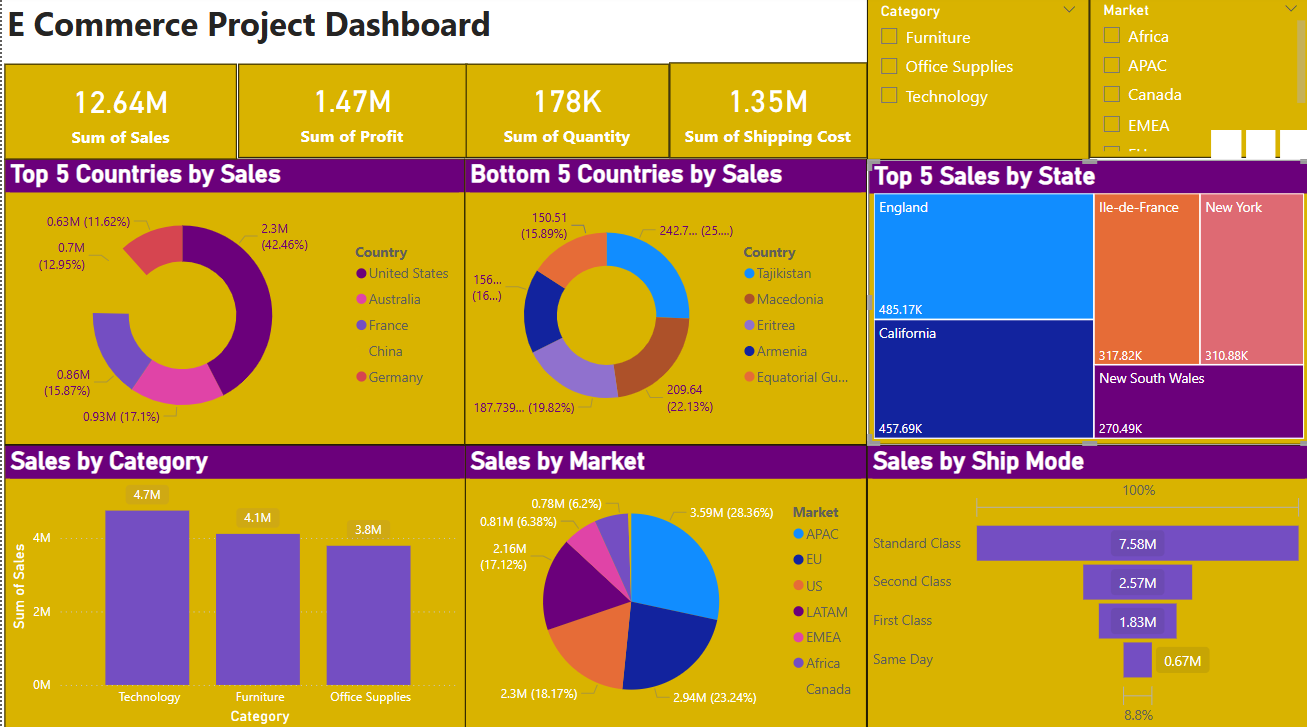

Layout of this report page (visuals, bound fields, positions):
{"tool":"powerbi","page":{"name":"Page 1","canvas":[1280,720],"ordinal":0},"visuals":[{"type":"pieChart","title":"Sales by Market","fields":{"Category":["Orders.Market"],"Y":["Sum(Orders.Sales)"]},"box":[452.8,440.5,393.8,279.9],"z":0},{"type":"columnChart","title":"Sales by Category","fields":{"Category":["Orders.Category"],"Y":["Sum(Orders.Sales)"]},"box":[2.7,440.5,451.5,279.9],"z":1000},{"type":"funnel","title":"Sales by Ship Mode","fields":{"Category":["Orders.Ship Mode"],"Y":["Sum(Orders.Sales)"]},"box":[846.7,440.5,433.6,279.9],"z":2000},{"type":"donutChart","title":"Top 5 Countries by Sales","fields":{"Category":["Orders.Country"],"Y":["Sum(Orders.Sales)"]},"box":[2.7,160.5,450.1,279.9],"z":3000},{"type":"donutChart","title":"Bottom 5 Countries by Sales","fields":{"Category":["Orders.Country"],"Y":["Sum(Orders.Sales)"]},"box":[452.8,160.5,393.8,279.9],"z":4000},{"type":"card","fields":{"Values":["Sum(Orders.Sales)"]},"box":[2.5,67.5,227.5,93.8],"z":5000},{"type":"card","fields":{"Values":["Sum(Orders.Profit)"]},"box":[230.5,67.2,223.7,91.9],"z":6000},{"type":"card","fields":{"Values":["Sum(Orders.Quantity)"]},"box":[454.2,67.2,199,91.9],"z":7000},{"type":"card","fields":{"Values":["Sum(Orders.Shipping Cost)"]},"box":[653.2,65.9,193.5,93.3],"z":8000},{"type":"slicer","fields":{"Values":["Orders.Category"]},"box":[846.2,1.2,217.5,160],"z":9000},{"type":"slicer","fields":{"Values":["Orders.Market"]},"box":[1063.5,0,216.8,159.2],"z":10000},{"type":"textbox","box":[0,1.4,666.9,56.3],"z":11000},{"type":"treemap","title":"Top 5 Sales by State","fields":{"Group":["Orders.State"],"Values":["Sum(Orders.Sales)"]},"box":[847.5,161.2,432.5,278.8],"z":12000}]}

Visuals, with their boxes in screenshot pixels (x1, y1, x2, y2), scaled from the page's 1280x720 canvas onto the 1307x727 screenshot:
"Sales by Market" pieChart: (left=462, top=445, right=864, bottom=726)
"Sales by Category" columnChart: (left=3, top=445, right=464, bottom=726)
"Sales by Ship Mode" funnel: (left=865, top=445, right=1306, bottom=726)
"Top 5 Countries by Sales" donutChart: (left=3, top=162, right=462, bottom=445)
"Bottom 5 Countries by Sales" donutChart: (left=462, top=162, right=864, bottom=445)
card - Sum(Orders.Sales): (left=3, top=68, right=235, bottom=163)
card - Sum(Orders.Profit): (left=235, top=68, right=464, bottom=161)
card - Sum(Orders.Quantity): (left=464, top=68, right=667, bottom=161)
card - Sum(Orders.Shipping Cost): (left=667, top=67, right=865, bottom=161)
slicer - Orders.Category: (left=864, top=1, right=1086, bottom=163)
slicer - Orders.Market: (left=1086, top=0, right=1306, bottom=161)
textbox: (left=0, top=1, right=681, bottom=58)
"Top 5 Sales by State" treemap: (left=865, top=163, right=1306, bottom=444)
